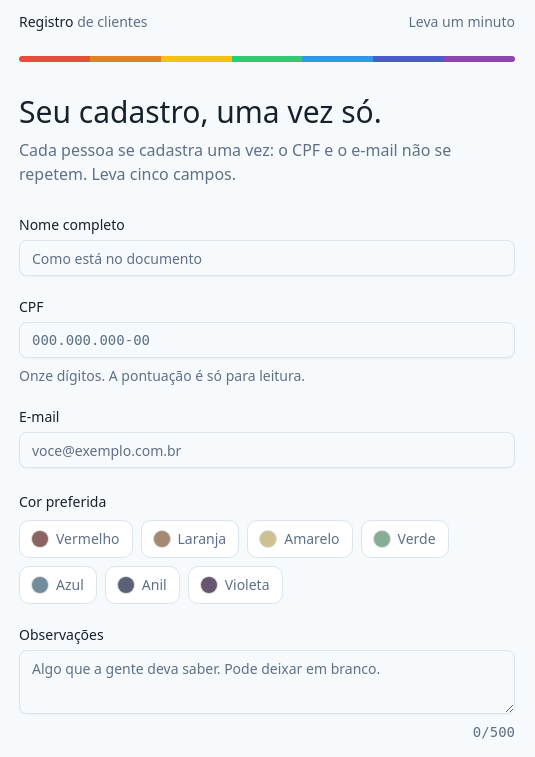
Scenario: ClientForm › conta os caracteres das observações
The width and height of the screenshot is (535, 757).
Expected: the text "0/500" is shown, [473,724,515,740]
Type "Cliente" into the text box labelled "Observações".
click(267, 682); type("Cliente")  # box [19,650,515,714]
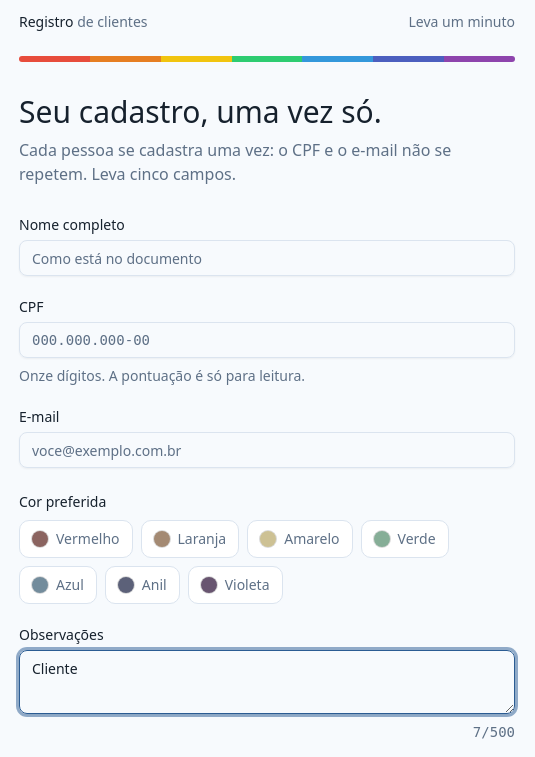
Now the text "7/500" is shown, box [473,724,515,740]
